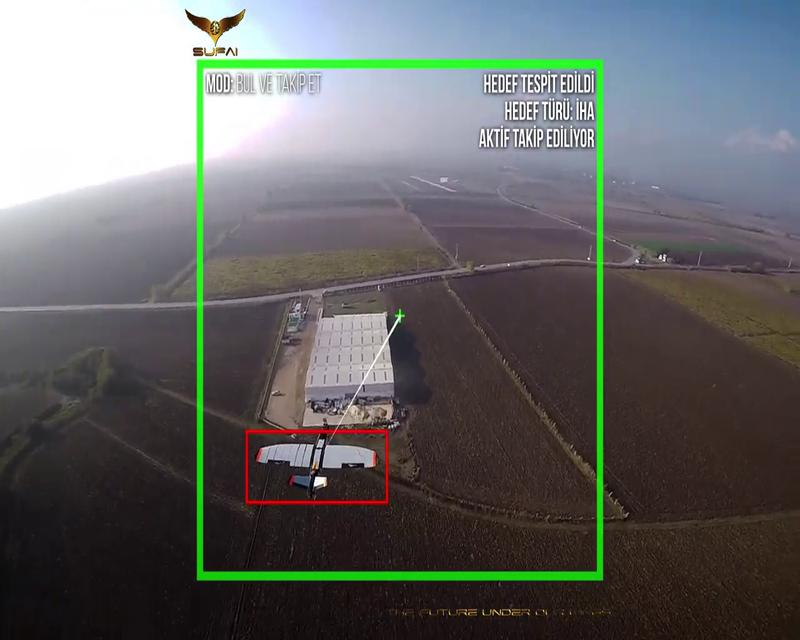UAV: (246, 430, 388, 502)
